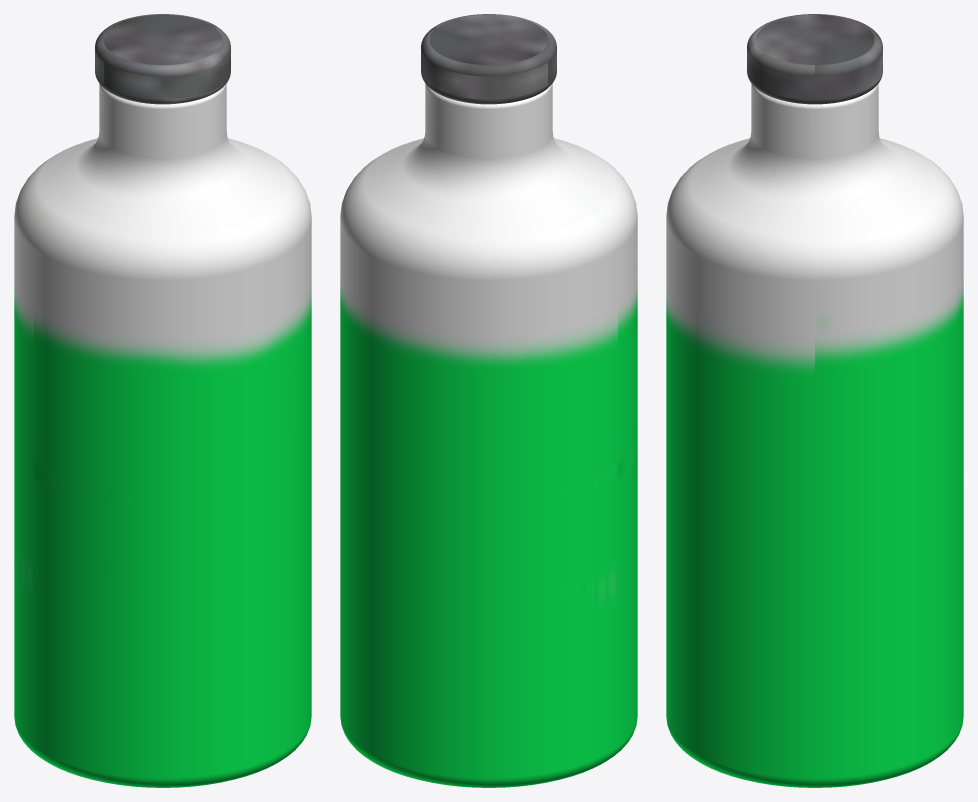
Rendered from Portion.fbx.
The picture shows the model from 3 angles, left to right: view 1: azimuth 30°, elevation 25°; view 2: azimuth 150°, elevation 25°; view 3: azimuth 270°, elevation 25°; orthographic projection.
Parts seen in each view (by area): view 1: Bottiglia_Solido, Tappo_Solido; view 2: Bottiglia_Solido, Tappo_Solido; view 3: Bottiglia_Solido, Tappo_Solido.
Part boxes in pixels (x1,y1,x2,y2): Bottiglia_Solido: (14,83,311,787); Tappo_Solido: (95,14,230,104); Bottiglia_Solido: (340,83,637,787); Tappo_Solido: (421,14,556,104); Bottiglia_Solido: (666,84,963,787); Tappo_Solido: (747,14,882,104).
Size of the model in its own units: 0.07 by 0.1793 by 0.07.
